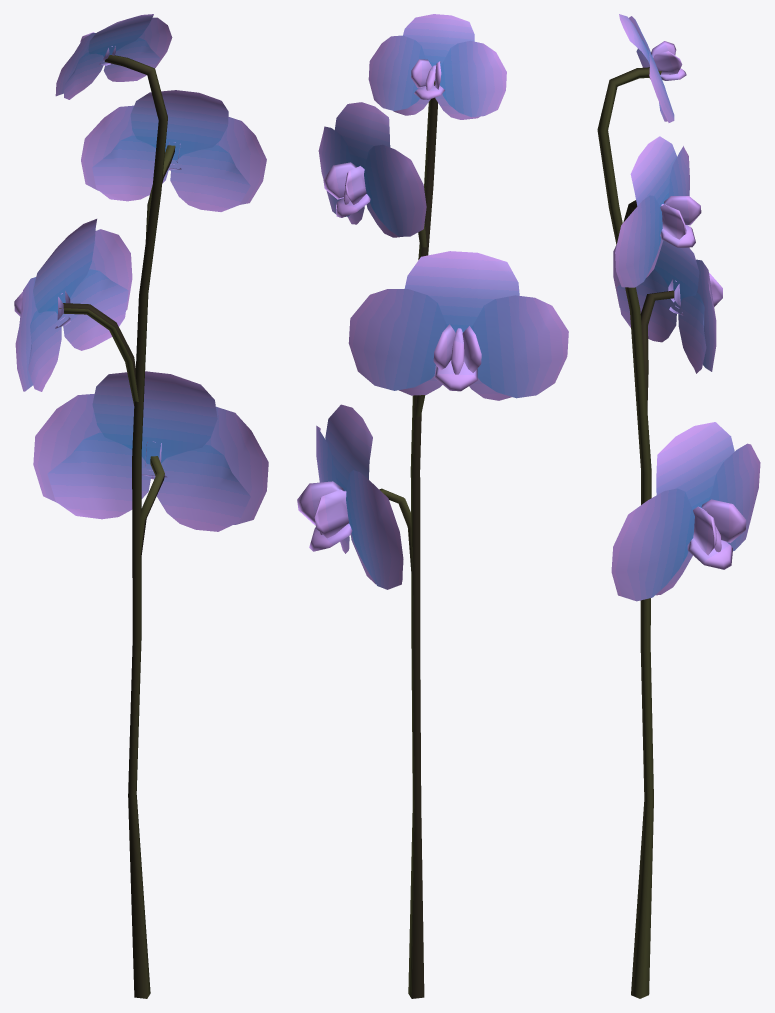
File: Orchid.fbx
The picture shows the model from 3 angles, left to right: view 1: azimuth 30°, elevation 25°; view 2: azimuth 150°, elevation 25°; view 3: azimuth 270°, elevation 25°; orthographic projection. The views are drawn at different scales.
Parts seen in each view (by area): view 1: Flower, BézierCurve; view 2: Flower, BézierCurve; view 3: Flower, BézierCurve.
Part boxes in pixels (bbox=[...]): Flower: bbox=[14, 14, 268, 531]; BézierCurve: bbox=[59, 55, 175, 998]; Flower: bbox=[297, 14, 568, 589]; BézierCurve: bbox=[379, 80, 437, 998]; Flower: bbox=[611, 14, 760, 601]; BézierCurve: bbox=[597, 67, 674, 998].
Bounding box in the file's own units: 374 × 1398 × 215.
